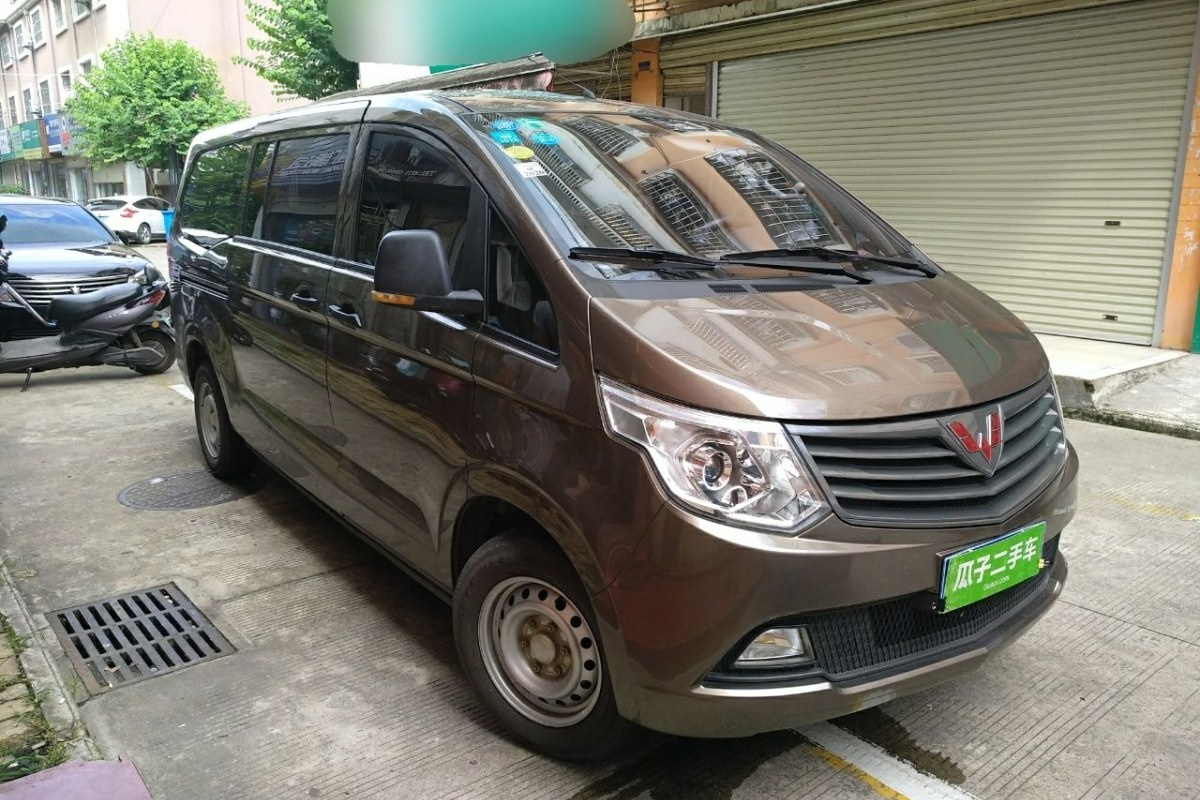minibus: (137, 76, 1095, 770)
